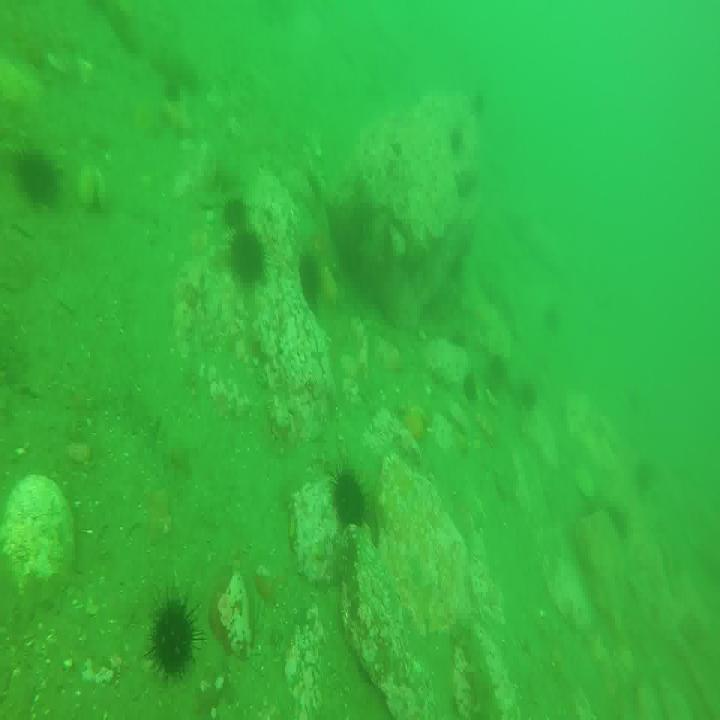echinus: (329, 471, 367, 539), (156, 602, 192, 670), (18, 152, 60, 210), (228, 230, 266, 289), (300, 248, 323, 307), (491, 347, 510, 395), (226, 195, 249, 233), (164, 71, 186, 110), (516, 382, 536, 408), (474, 93, 492, 120), (451, 126, 470, 151), (467, 371, 479, 407)
